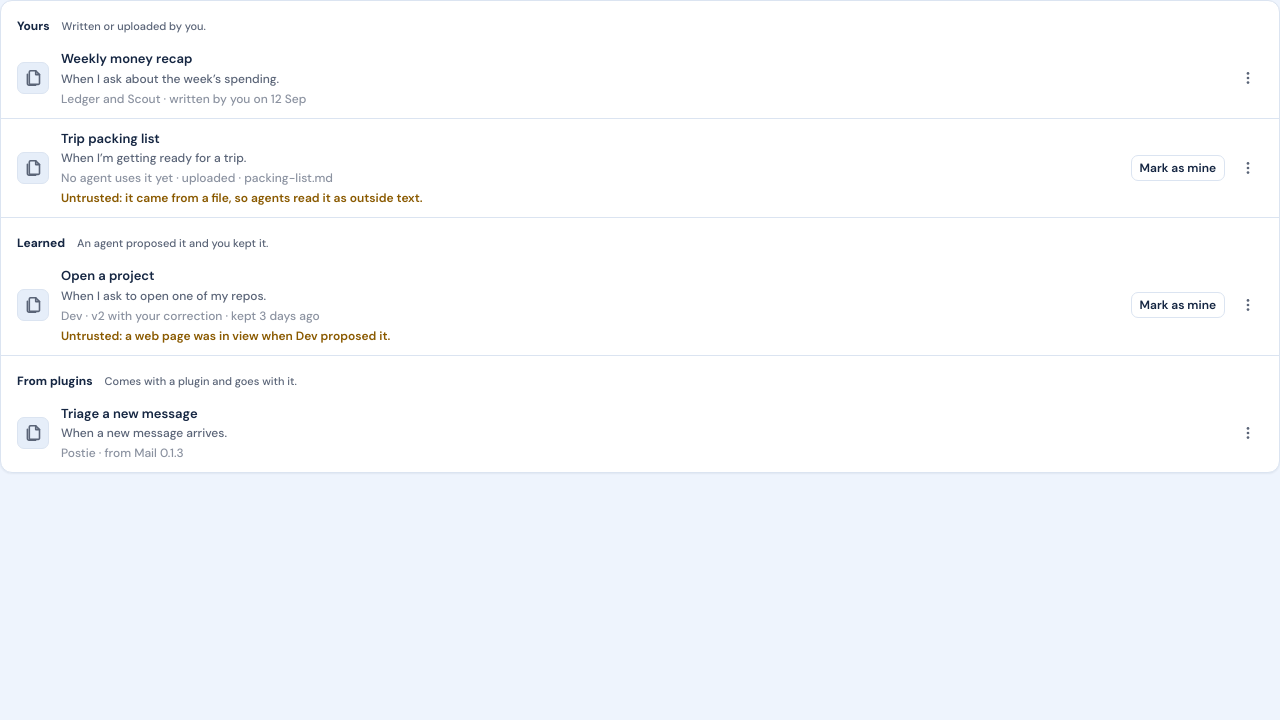
it: the list › offers Delete in the row’s menu, and not for a plugin’s
The width and height of the screenshot is (1280, 720).
Click the button named "More for Triage a new message": (1248, 433) [1233, 418, 1263, 448]
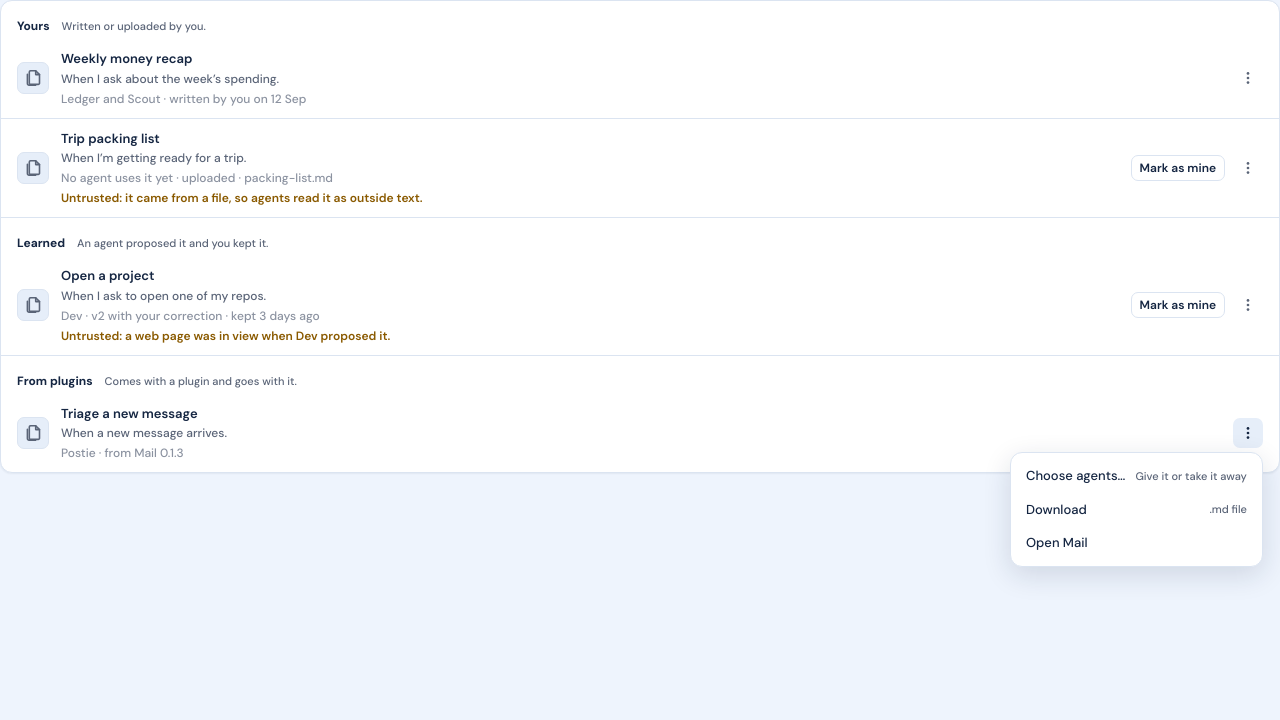
Expected: the menu item "Delete…" is not shown
Result: the menu item "Open Mail" is shown at [1026, 534, 1088, 551]
Press Escape
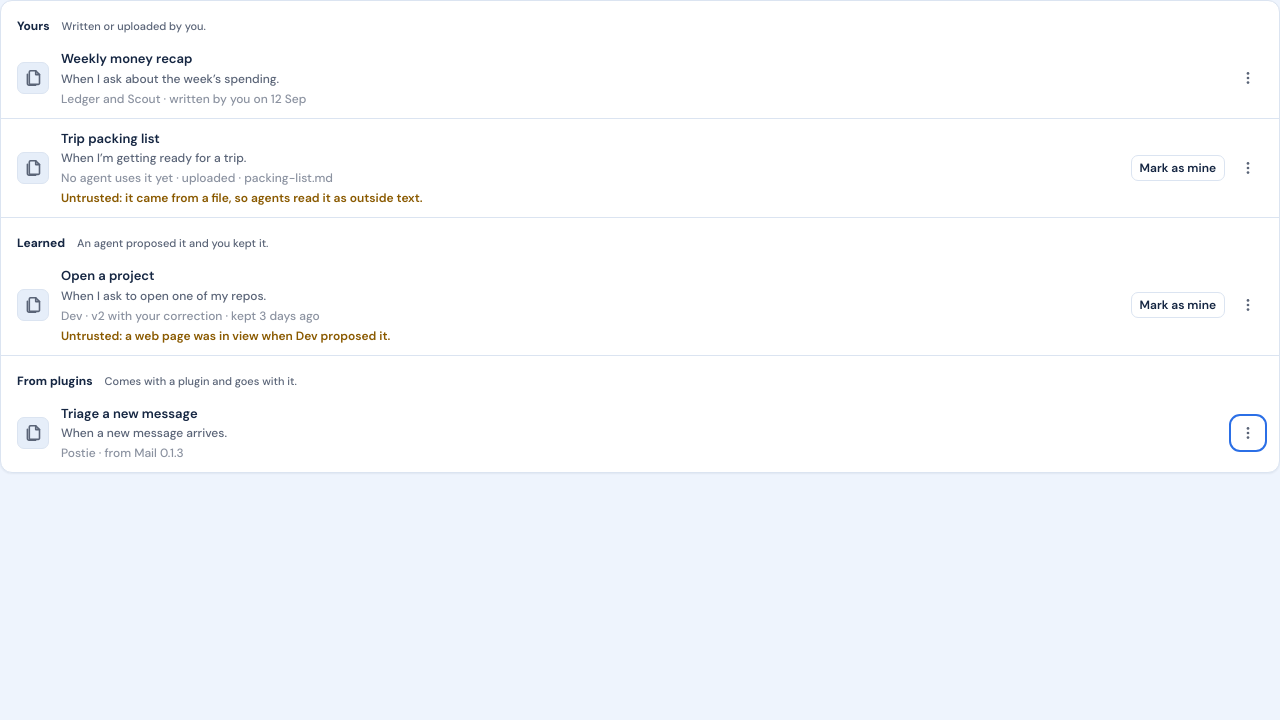
Click the button named "More for Weekly money recap": (1248, 78) [1233, 63, 1263, 93]
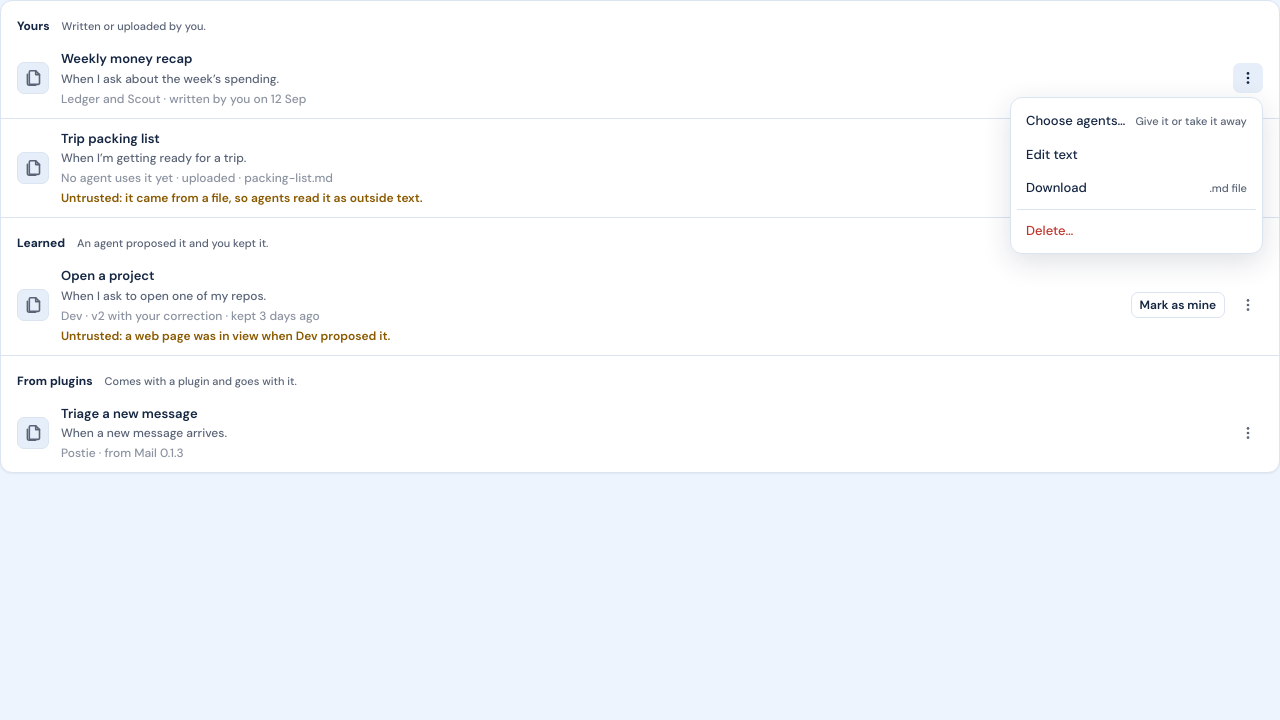
Click the menu item "Delete…": (1050, 230) [1026, 222, 1073, 238]
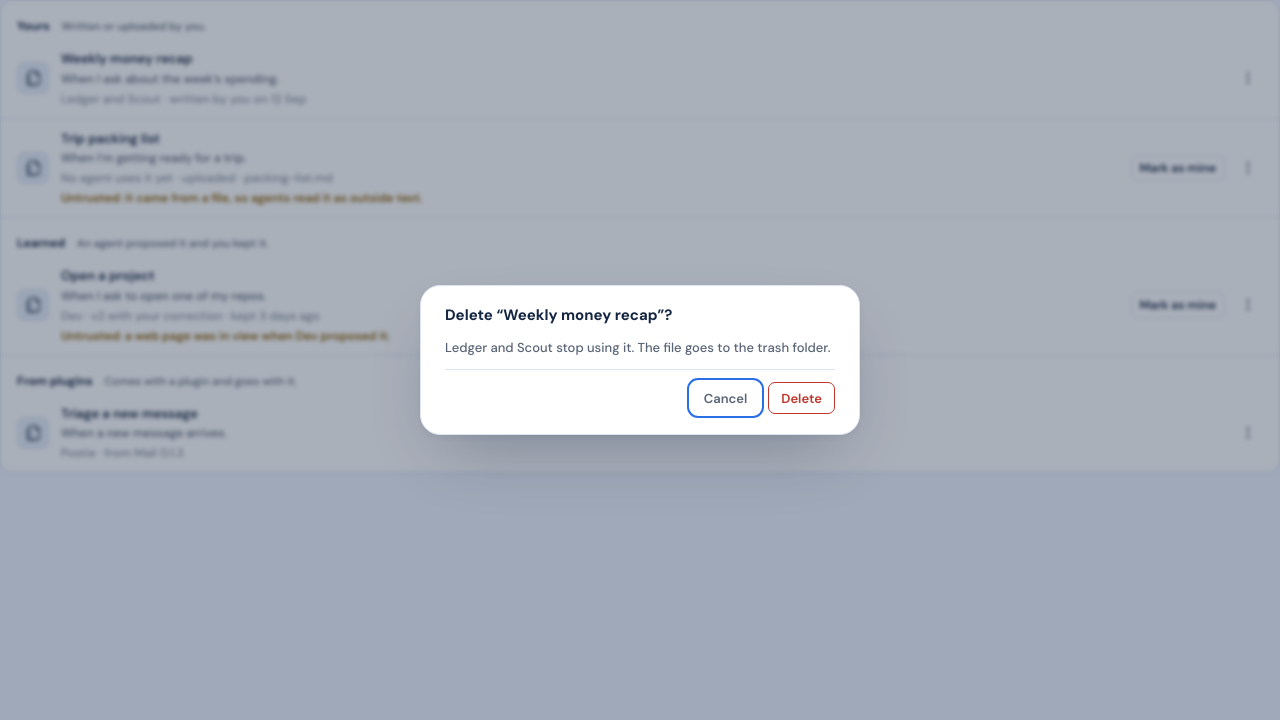
Result: the heading "Delete “Weekly money recap”?" is shown at [445, 305, 672, 325]
